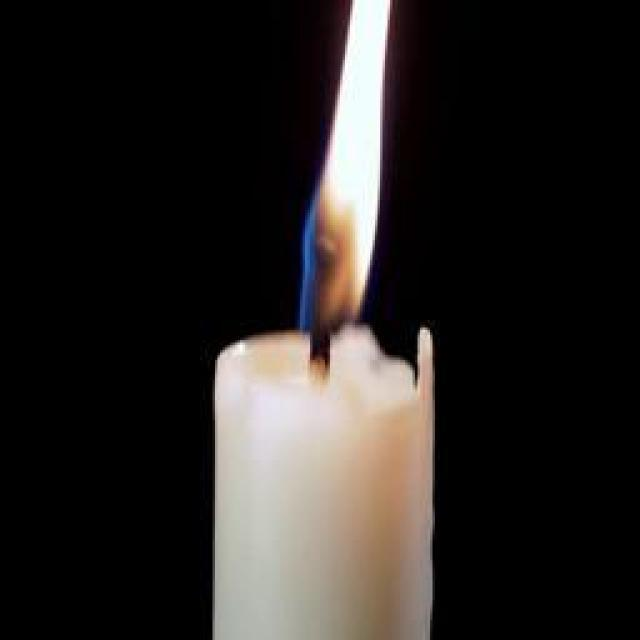Fire: (300, 0, 390, 338)
